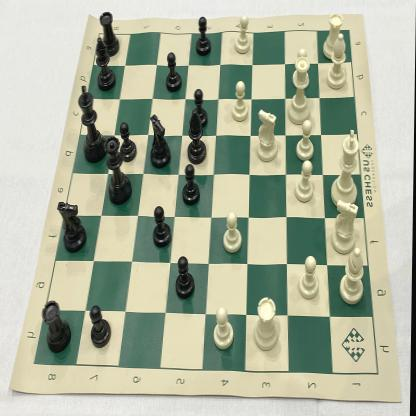black-bishop: (93, 36, 117, 92), (187, 108, 207, 166)
black-king: (75, 84, 109, 164)
black-knight: (57, 198, 87, 254), (149, 113, 173, 169)
black-pawn: (89, 304, 113, 352), (174, 253, 197, 303), (152, 204, 173, 250), (165, 50, 184, 96), (182, 164, 201, 208), (194, 14, 213, 57), (120, 121, 138, 164), (191, 87, 209, 130)
black-queen: (106, 136, 132, 207)
black-rook: (41, 298, 72, 354), (98, 10, 120, 56)
white-bishop: (339, 247, 366, 306), (326, 32, 349, 92)
white-king: (329, 128, 361, 209)
white-knight: (332, 199, 361, 255), (255, 109, 279, 165)
white-pawn: (213, 304, 236, 352), (298, 256, 321, 302), (295, 160, 316, 204), (224, 210, 244, 256), (231, 80, 251, 124), (233, 12, 252, 56), (296, 118, 314, 160), (292, 46, 309, 90)
white-queen: (286, 57, 314, 126)
white-rook: (252, 296, 281, 353), (322, 11, 343, 62)
